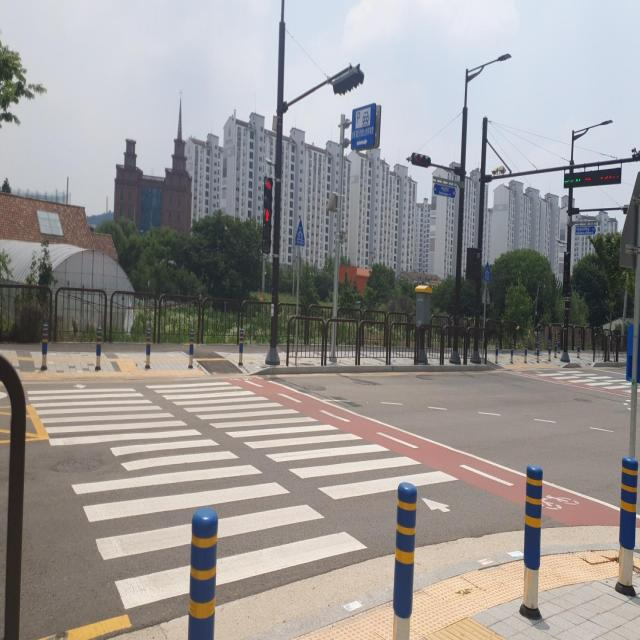빨간불: (261, 208, 272, 252)
횡단보도: (25, 380, 459, 608)
